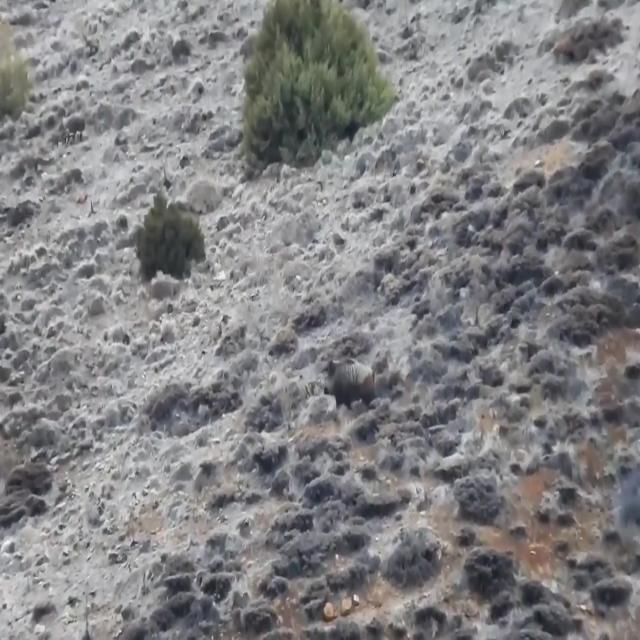pig: (310, 329, 380, 425)
